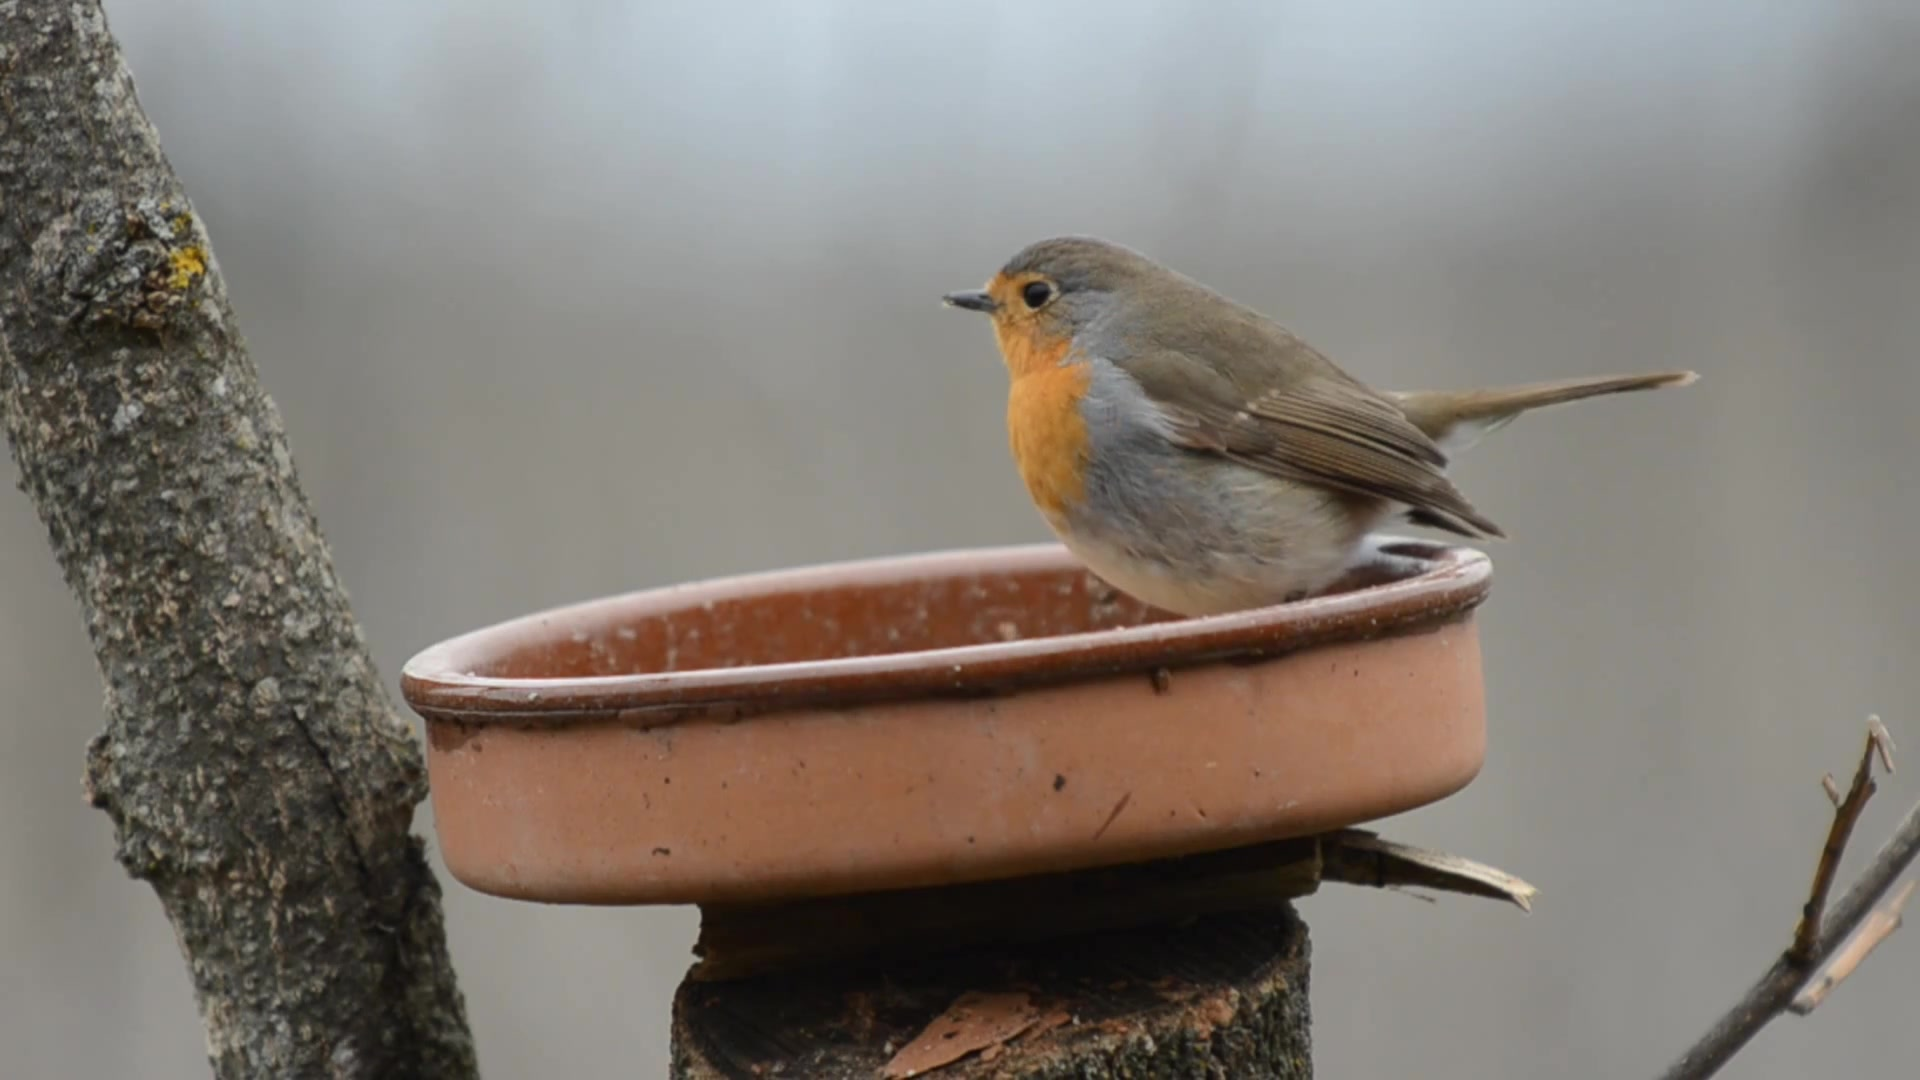bird: (942, 233, 1702, 620)
